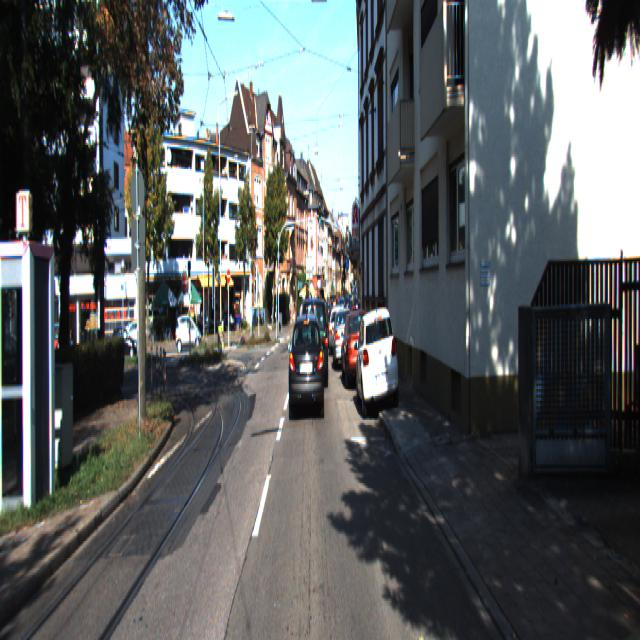Car: (583, 348, 639, 638), (355, 300, 399, 419), (288, 306, 325, 421), (340, 308, 373, 393), (300, 293, 328, 391), (332, 305, 354, 373), (175, 315, 202, 352)
